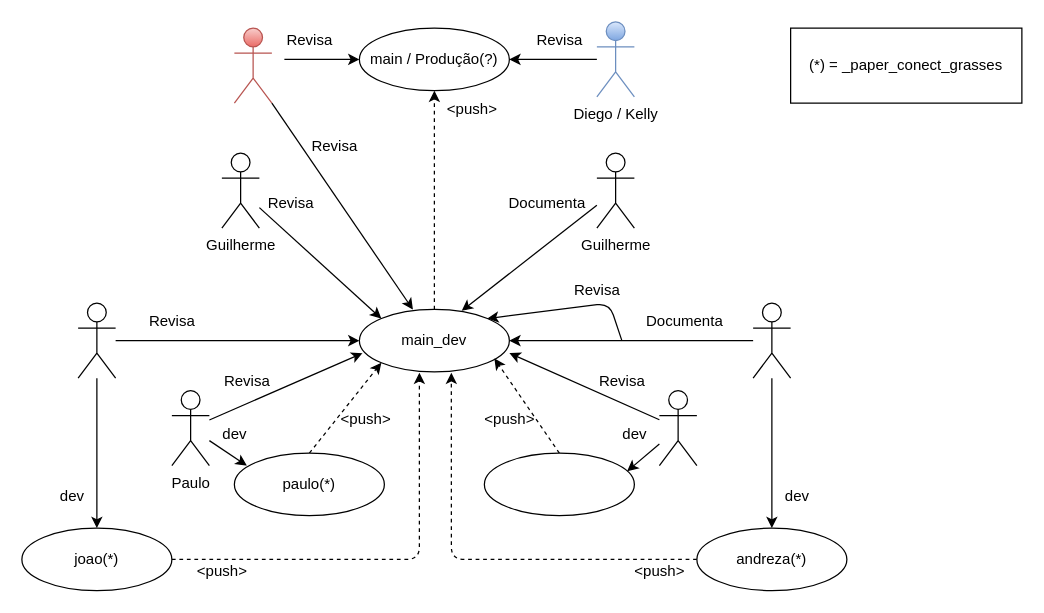
Image size: 1044x613. Some labels were removed from this diagram. The shapes that lost their labels are listed below. From the top down, each one's box as (x1, y1, x2, y2) in pixels, then its label:
(233, 27, 272, 103): Renato Santos
(77, 302, 116, 378): João N.
(752, 302, 791, 378): Andreza
(658, 389, 697, 466): Gustavo
(483, 452, 634, 516): gustavo(*)
